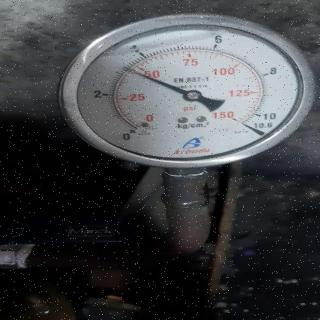gauge: (45, 6, 319, 170), (230, 111, 260, 137), (123, 119, 145, 140), (184, 88, 201, 102), (121, 63, 133, 72)
